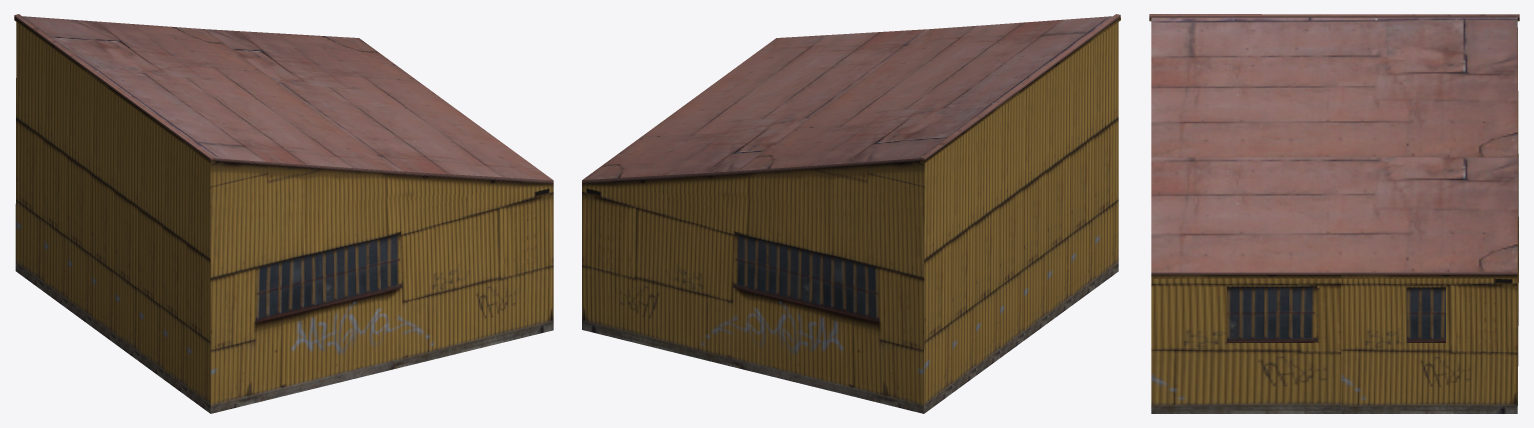
File: barrack4.fbx
The picture shows the model from 3 angles, left to right: view 1: azimuth 30°, elevation 25°; view 2: azimuth 150°, elevation 25°; view 3: azimuth 270°, elevation 25°; orthographic projection. The views are drawn at different scales.
Visible parts, largest first — view 1: barrack04; view 2: barrack04; view 3: barrack04.
Part boxes in pixels (box(x1,y1,x2,y2)): barrack04: box(14, 14, 553, 413); barrack04: box(582, 14, 1120, 413); barrack04: box(1149, 14, 1519, 413).
Size of the model in its own units: 669 by 476 by 661.
Materials: 1 (1 with a texture image).
